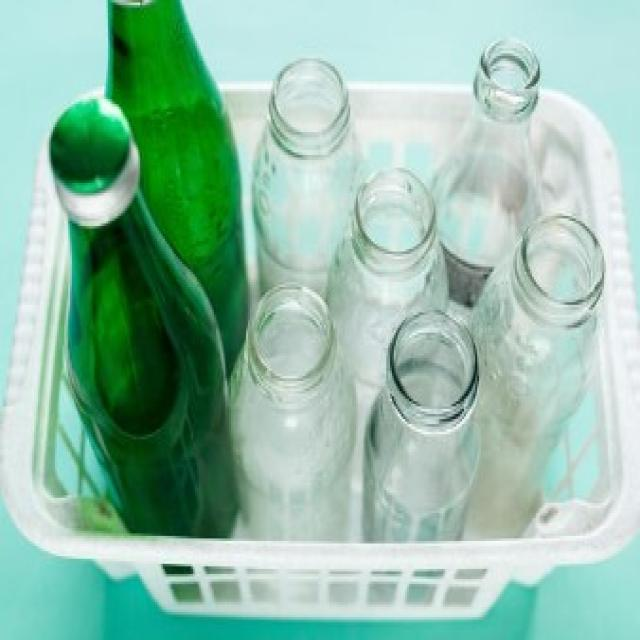electronic: (52, 0, 610, 549)
